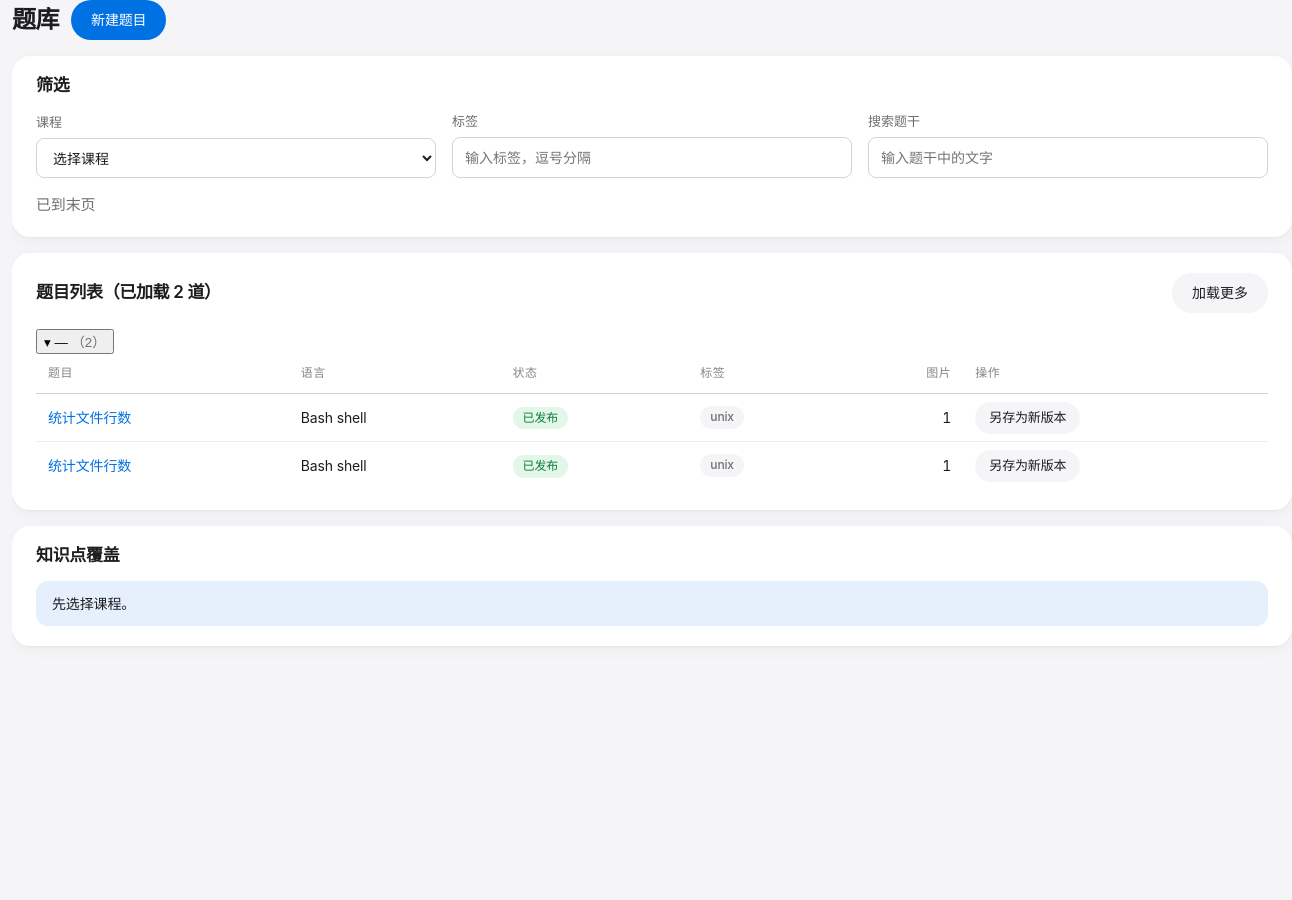
题目列表的游标分页 › 「加载更多」追加下一页，到末页后入口消失并显示已到末页
The width and height of the screenshot is (1292, 900).
Expected: the element with test id "question-table" is shown, [36,328,1268,490]
Click the button with test id "questions-load-more". click: click(1220, 292)
box: [1172,272,1268,312]
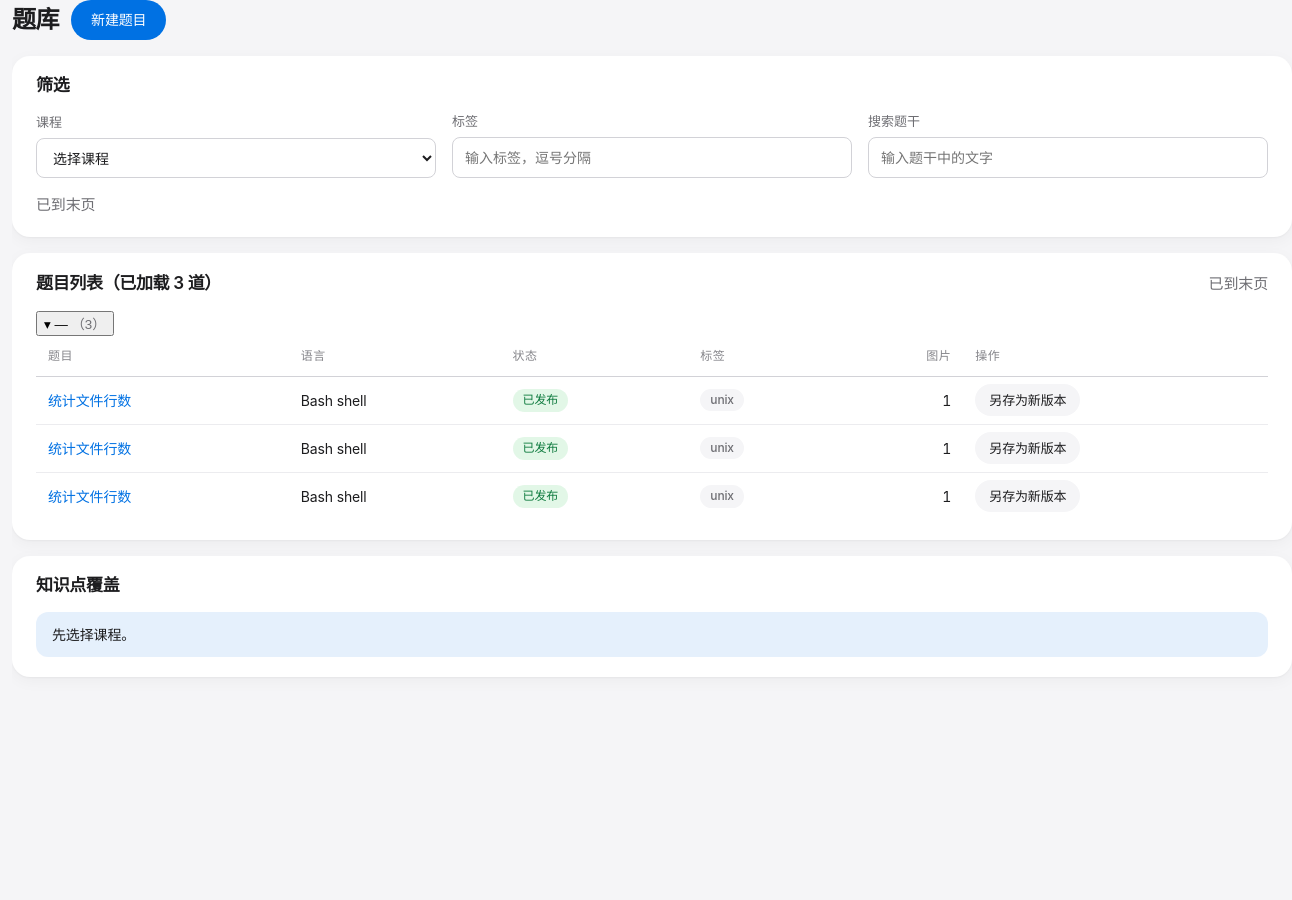
Now the number of rows is 4, box [36,336,1268,376]; [36,376,1268,424]; [36,424,1268,472]; [36,472,1268,520]
Now the heading "题目列表（已加载 3 道）" is shown, box [36,274,221,294]
Now the button with test id "questions-load-more" is gone
